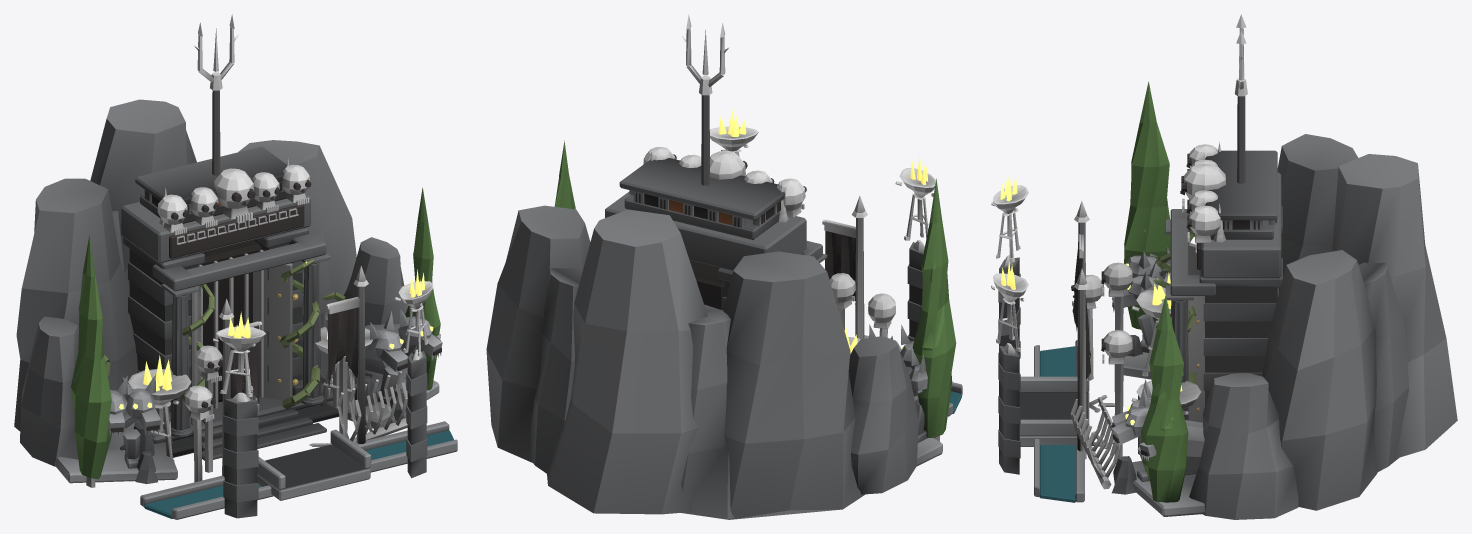
File: gate-of-hades-l3.glb
The picture shows the model from 3 angles, left to right: view 1: azimuth 30°, elevation 25°; view 2: azimuth 150°, elevation 25°; view 3: azimuth 270°, elevation 25°; orthographic projection. The views are drawn at different scales.
Visible parts, largest first — view 1: gate-of-hades-l3; view 2: gate-of-hades-l3; view 3: gate-of-hades-l3.
Boxes of the visible parts, left/top/right/bottom form: gate-of-hades-l3: left=14, top=14, right=457, bottom=519; gate-of-hades-l3: left=486, top=14, right=962, bottom=519; gate-of-hades-l3: left=991, top=14, right=1457, bottom=519.
Bounding box in the file's own units: 1.56 × 1.58 × 1.65.
